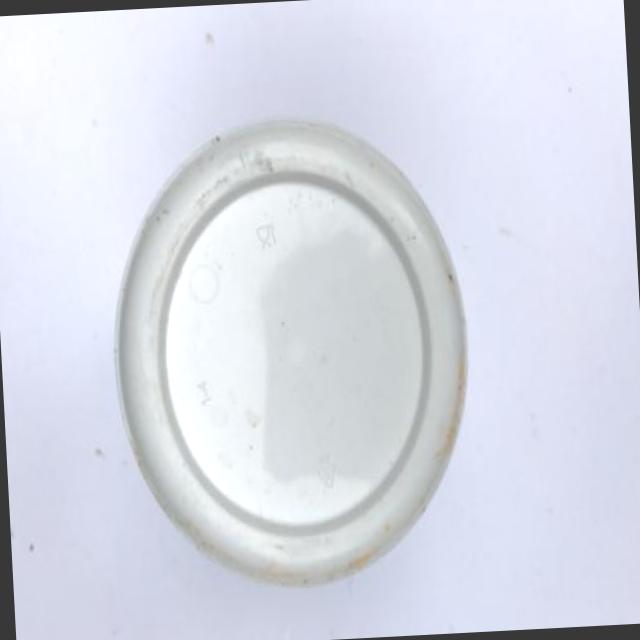Trash: (103, 110, 480, 597)
